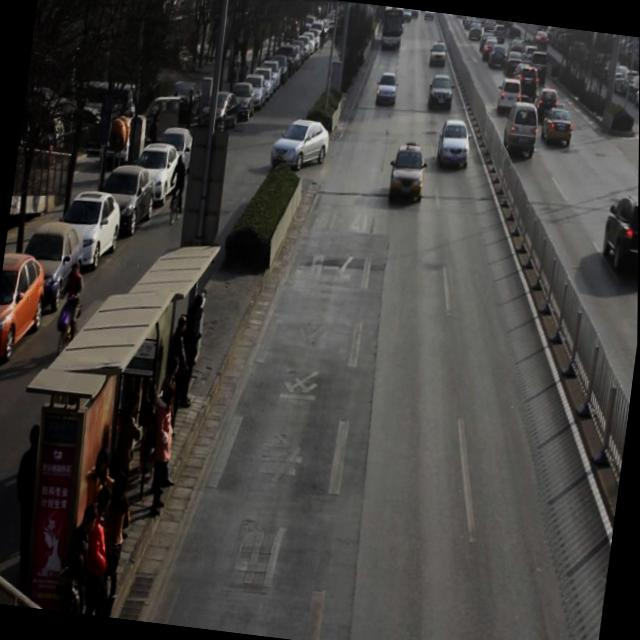car: (269, 115, 331, 172), (598, 192, 639, 276), (387, 142, 426, 204), (436, 118, 473, 172), (540, 102, 574, 148), (426, 72, 454, 116), (495, 80, 523, 118), (515, 66, 539, 102), (374, 73, 398, 109), (534, 88, 558, 122), (527, 49, 549, 86), (502, 50, 522, 79), (427, 40, 446, 70), (487, 44, 506, 72), (481, 38, 497, 64), (531, 30, 548, 51), (514, 62, 529, 83), (521, 45, 538, 63), (509, 37, 524, 53)
truck: (500, 102, 540, 161)
van: (376, 5, 402, 50)
